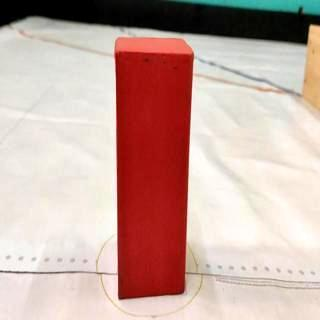redbox: (115, 36, 194, 302)
